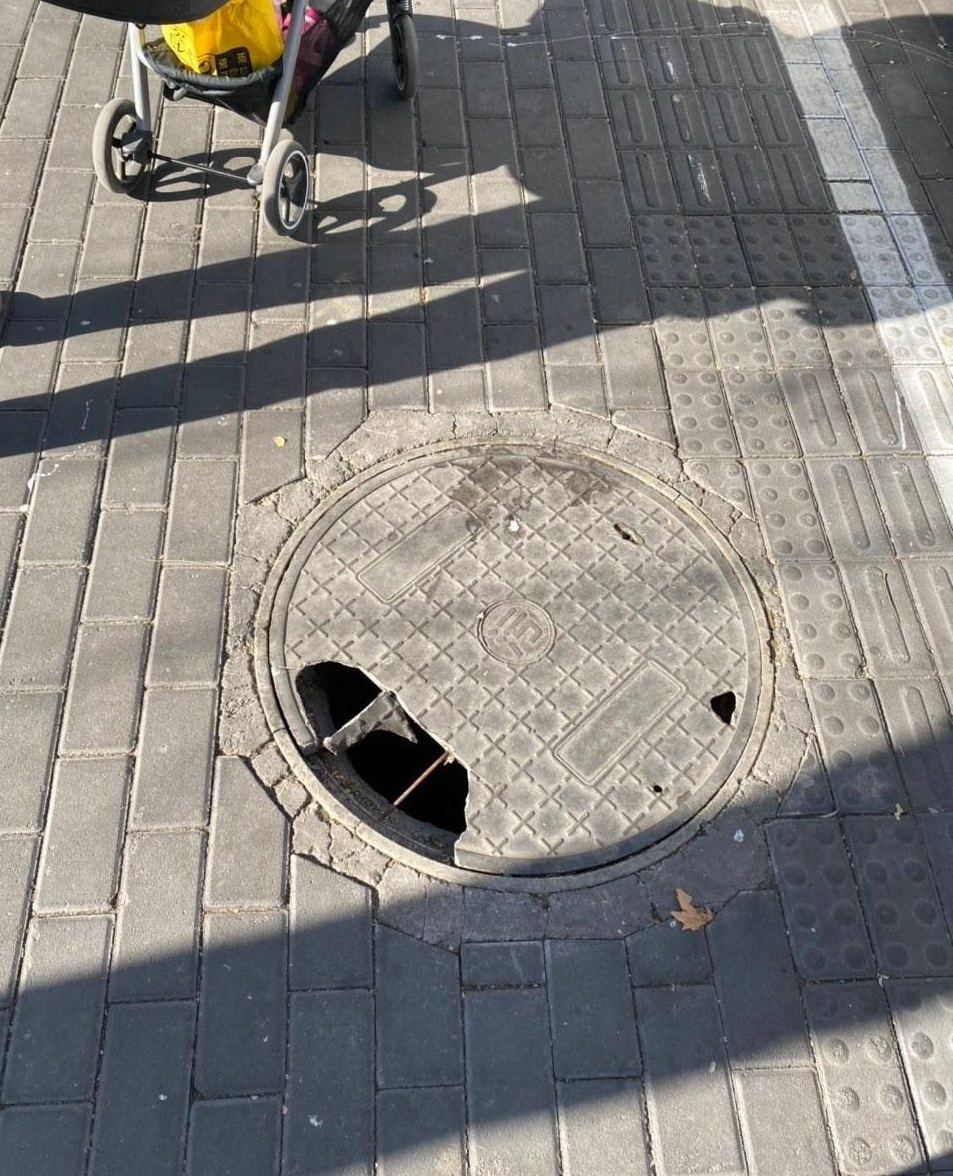broke: (251, 432, 776, 895)
